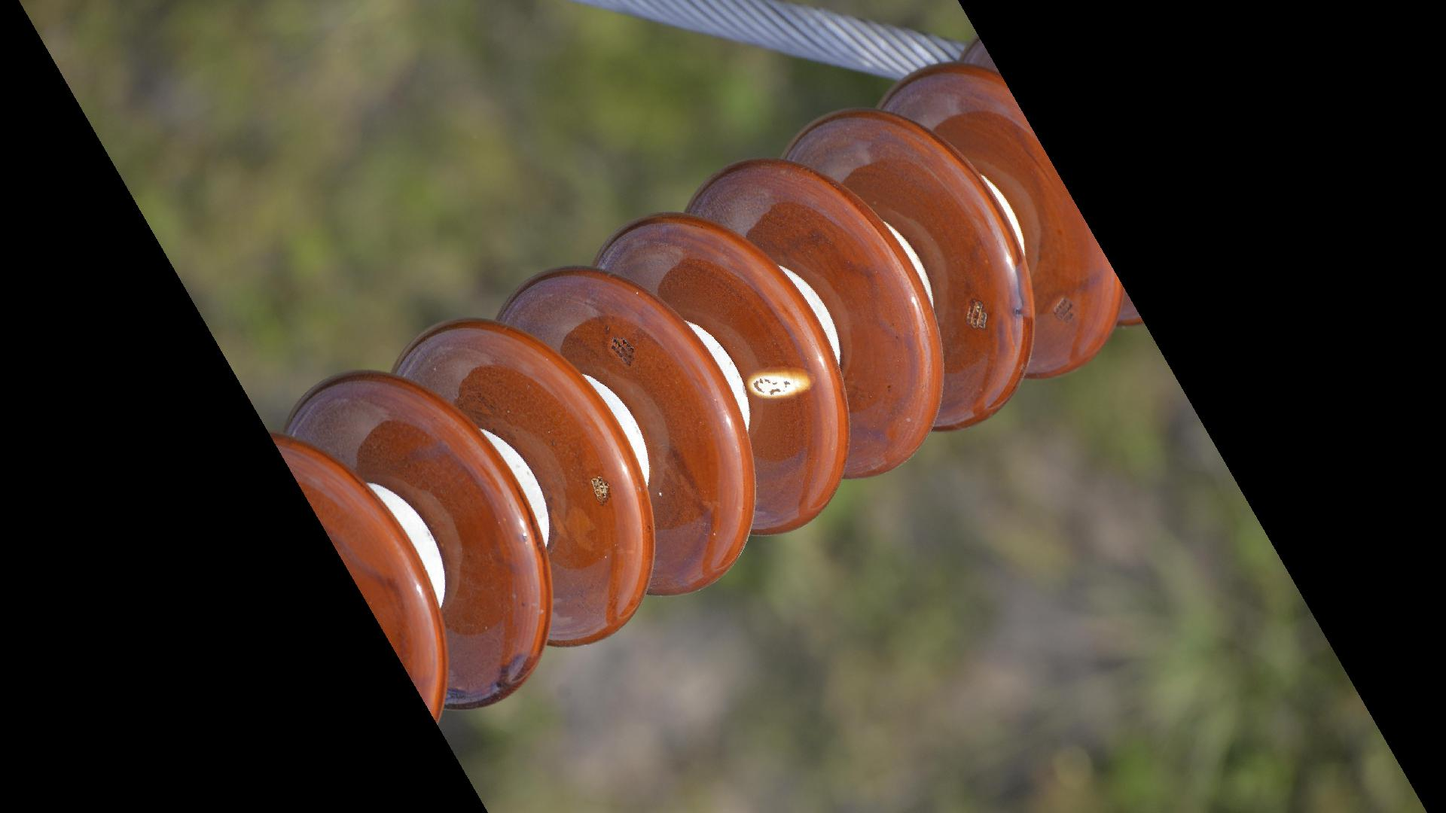insulator: (258, 31, 1151, 726)
insulator_flashover: (745, 361, 818, 403)
